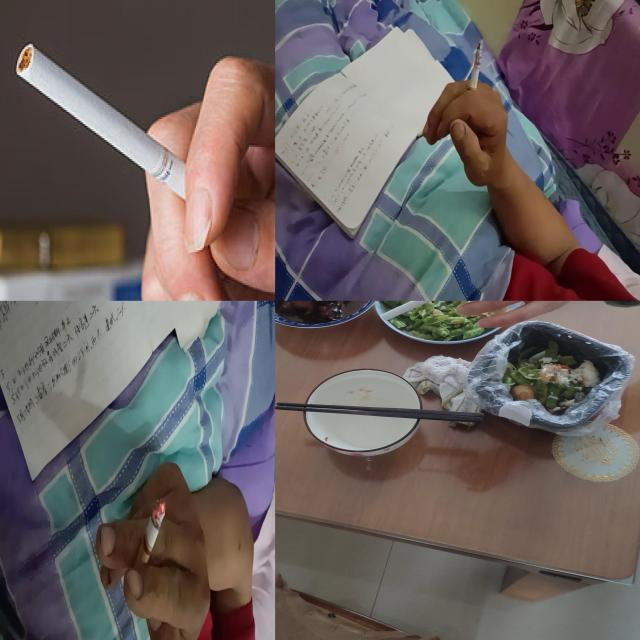smoking: (15, 42, 219, 212), (130, 498, 167, 592), (382, 300, 465, 322), (466, 40, 484, 102)
